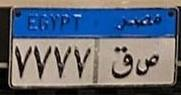7: (33, 43, 52, 80), (53, 43, 72, 79), (13, 44, 32, 79), (74, 46, 92, 80)
qaaf: (110, 45, 135, 81)
saad: (136, 51, 161, 79)
